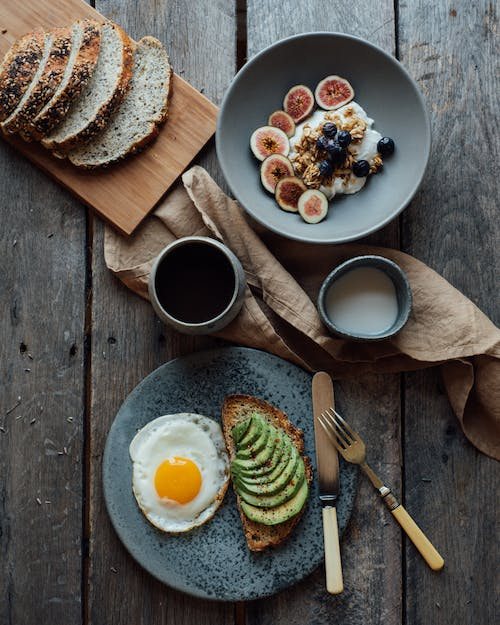knife: (310, 369, 346, 595)
